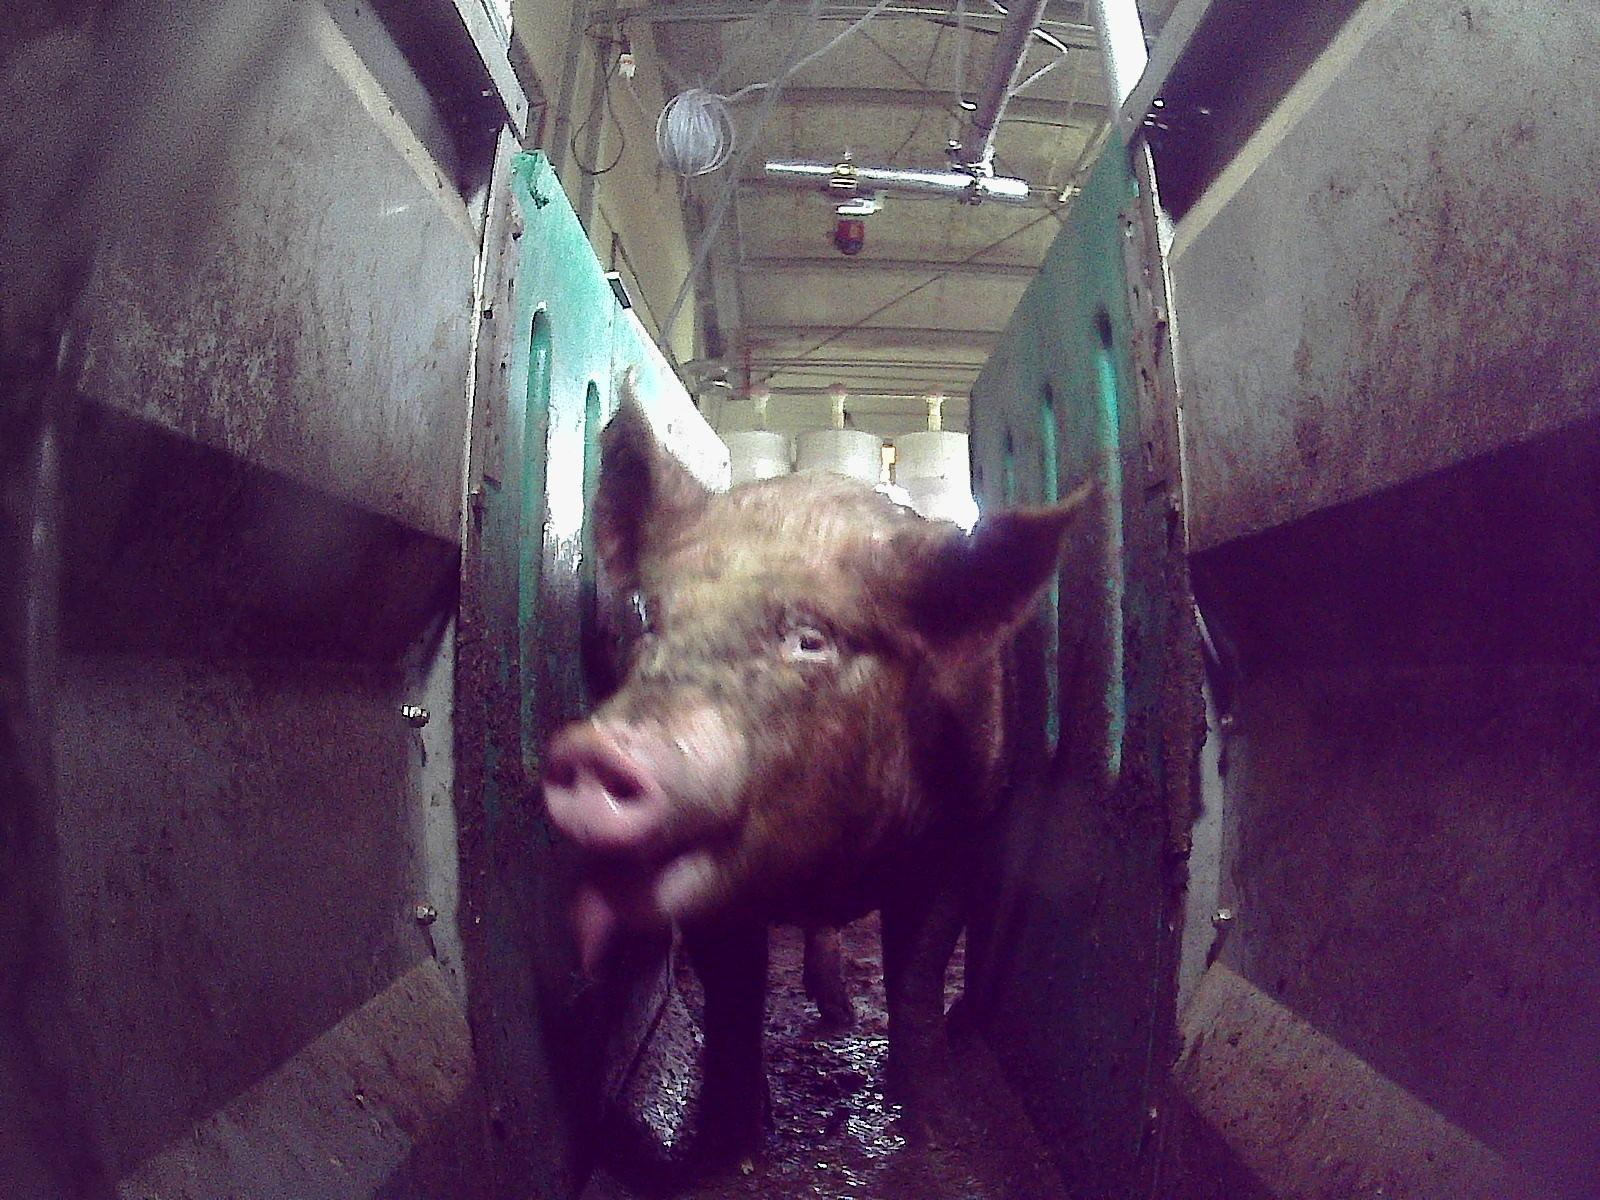Face: (541, 488, 899, 939)
